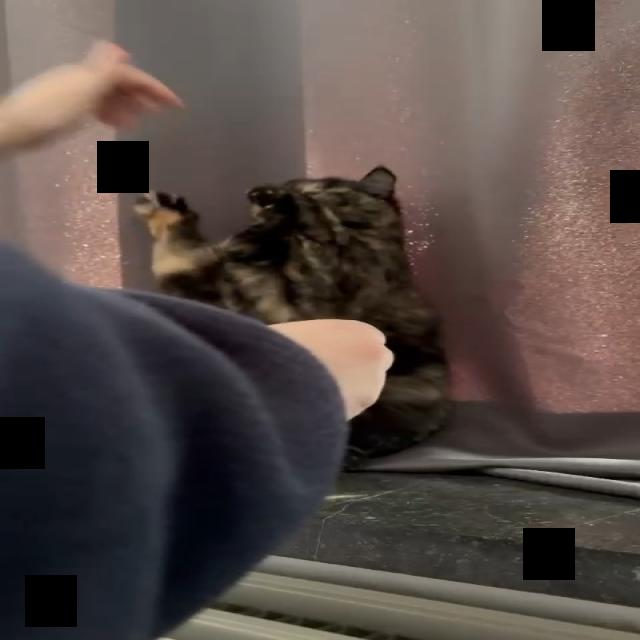authorized: (132, 163, 453, 466)
